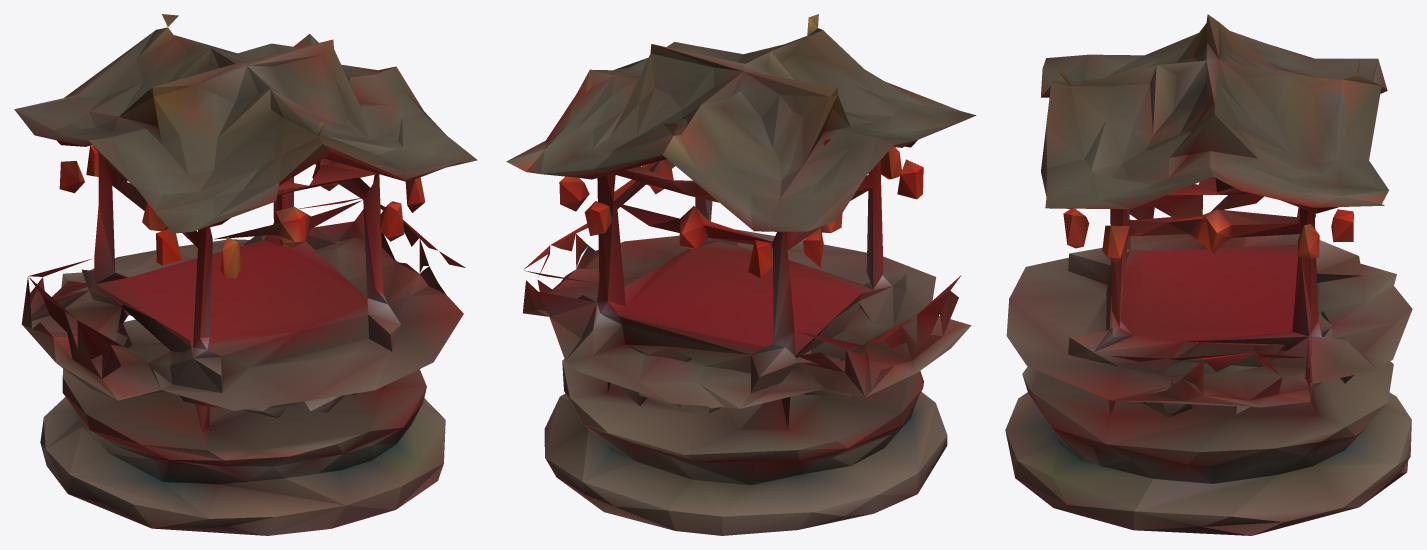
Rendered from bq_music_pav.vc2.glb.
3 renders of one model, left to right at view 1: azimuth 30°, elevation 25°; view 2: azimuth 150°, elevation 25°; view 3: azimuth 270°, elevation 25°, orthographic.
Parts seen in each view (by area): view 1: bq_music_pav; view 2: bq_music_pav; view 3: bq_music_pav.
Boxes of the visible parts, x1,y1,x2,y2 form: bq_music_pav: (14,14,477,535); bq_music_pav: (506,14,976,535); bq_music_pav: (1005,14,1412,535).
Bounding box in the file's own units: 1.91 × 1.98 × 1.86.
